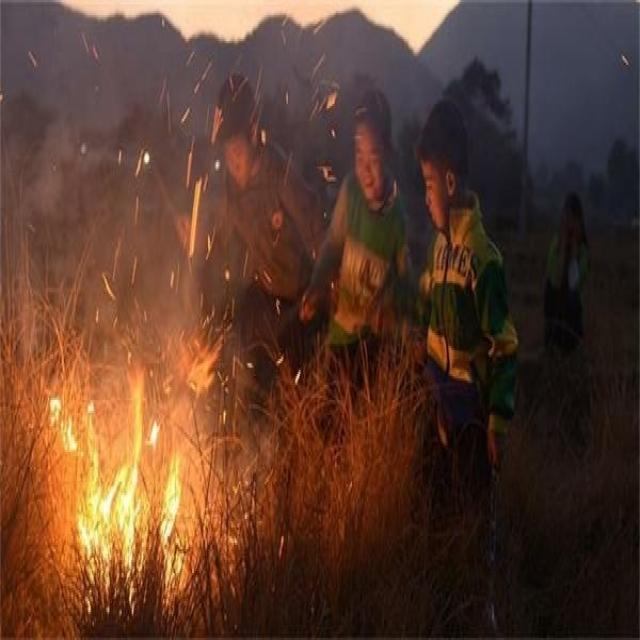Fire: (46, 335, 220, 616)
